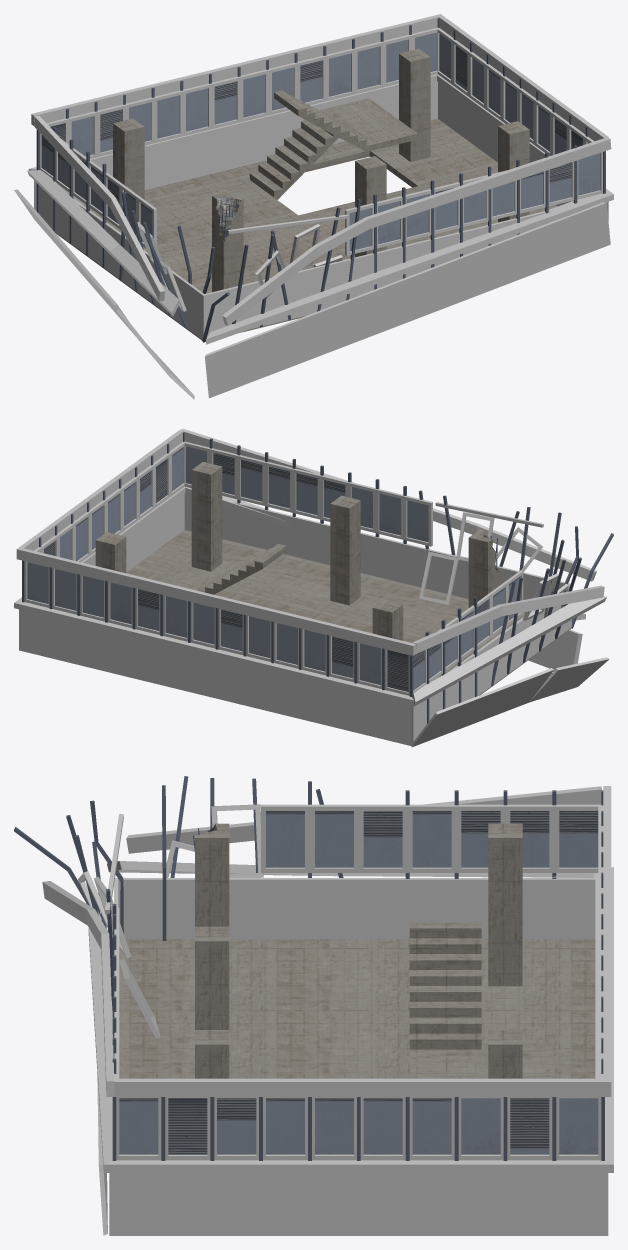
The model's file is Ruin2C_LOD0.fbx.
3 views of the same model, one above another, from view 1: azimuth 30°, elevation 25°; view 2: azimuth 150°, elevation 25°; view 3: azimuth 270°, elevation 25° (orthographic). The views are drawn at different scales.
Parts seen in each view (by area): view 1: polySurface486; view 2: polySurface486; view 3: polySurface486.
Part boxes in pixels (bbox=[...]): polySurface486: bbox=[14, 14, 613, 399]; polySurface486: bbox=[14, 428, 613, 747]; polySurface486: bbox=[14, 776, 613, 1235].
Size of the model in its own units: 15.59 by 5.63 by 12.28.
